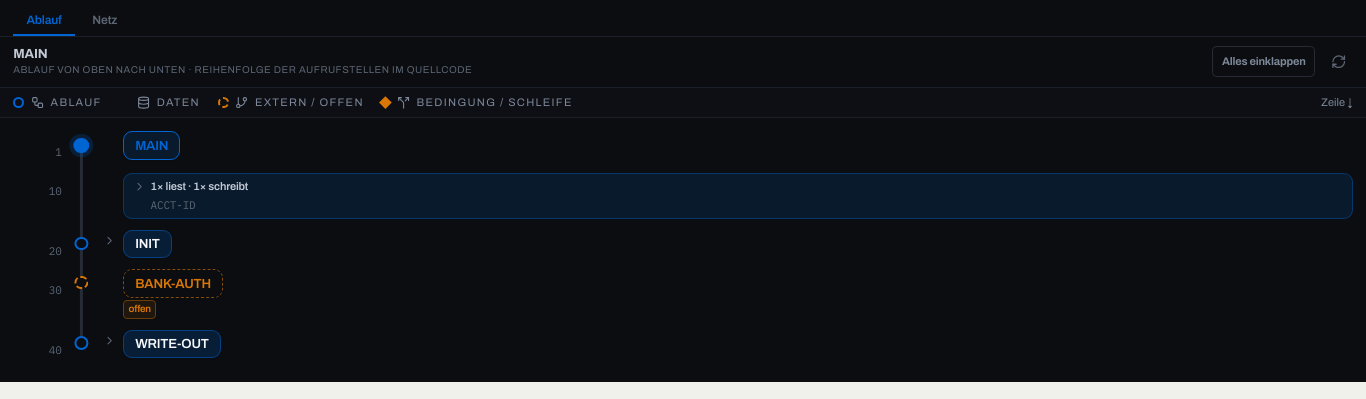
it: ProcessView – Ablauf › wechselt über den Tab in die Netz-Ansicht
Expected: the button "INIT" is shown, x1=123 y1=230 x2=172 y2=258
Click the tab "Netz" at (105, 21), box x1=79 y1=7 x2=130 y2=36
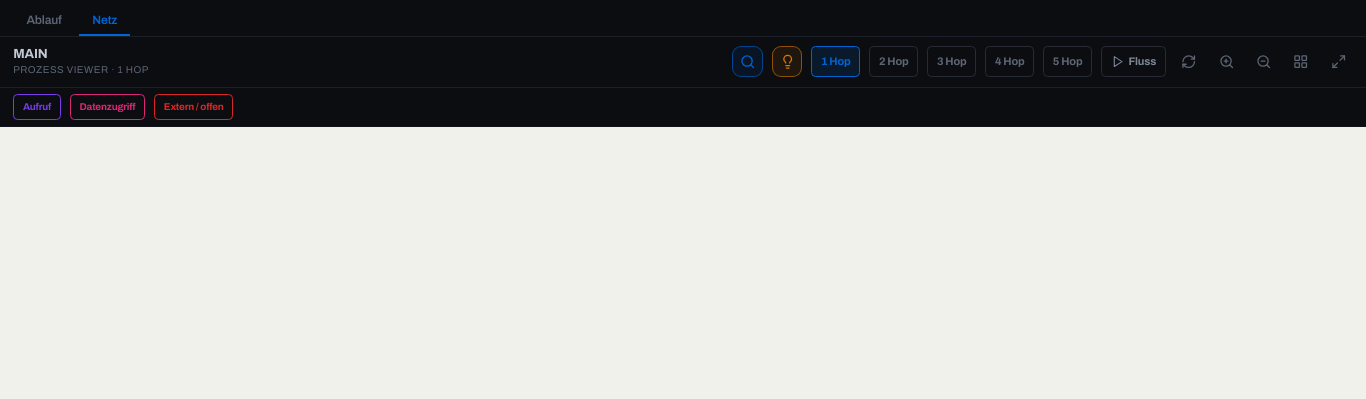
Expected: the table is gone
